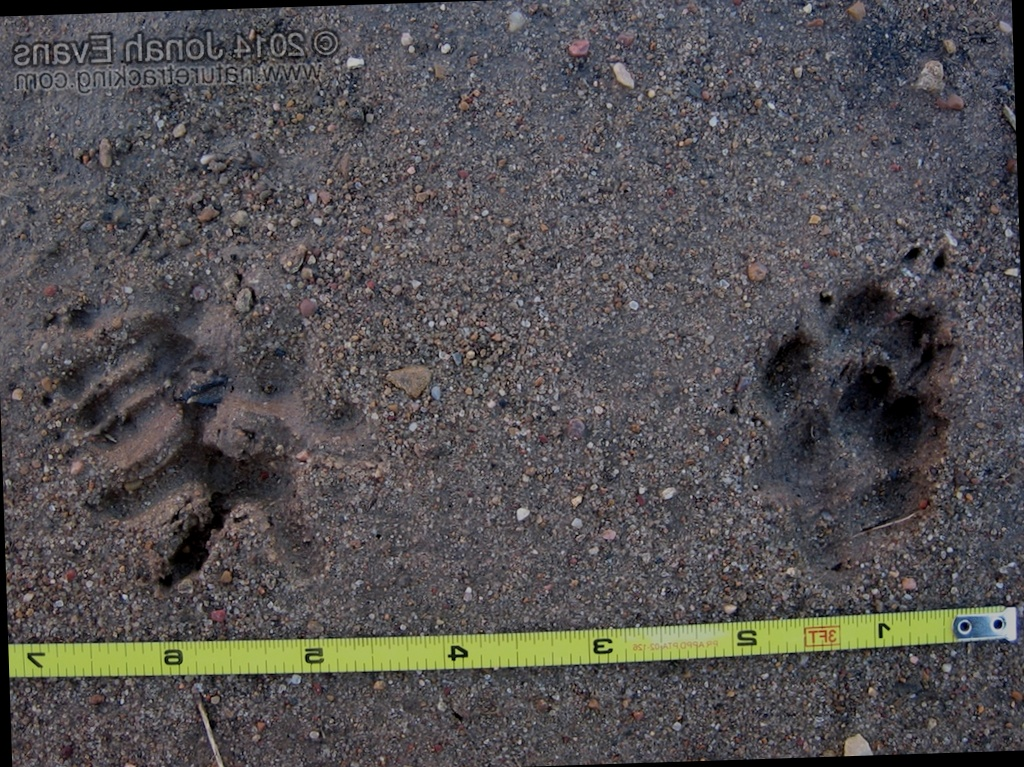fox: (37, 255, 395, 629), (712, 236, 1019, 641)
